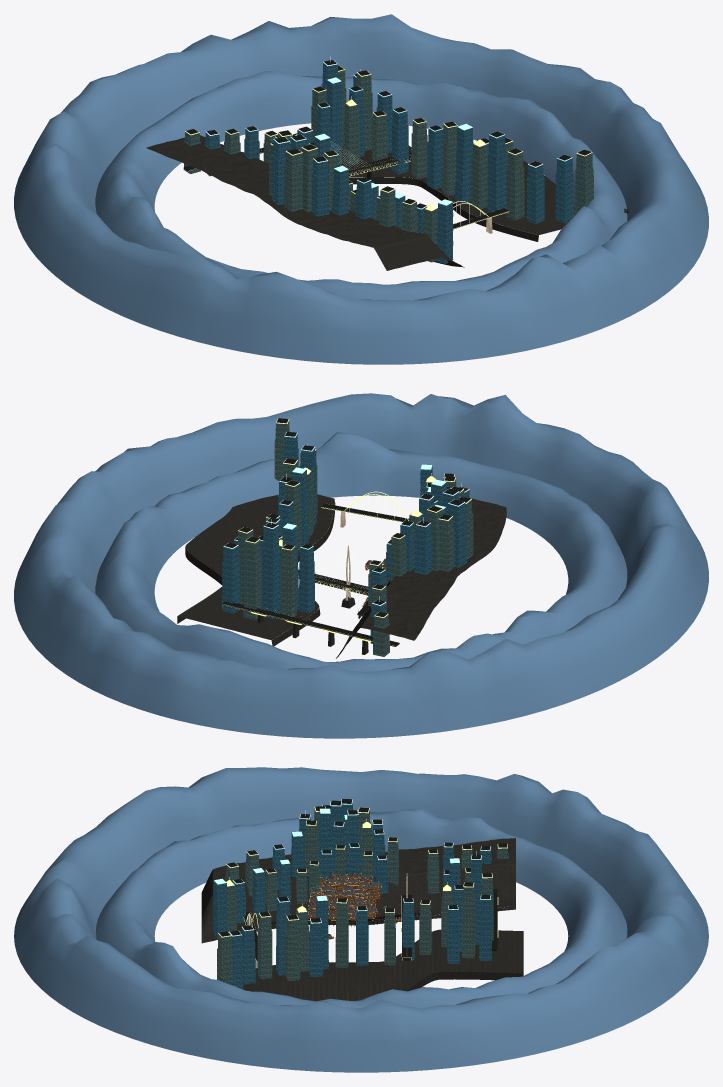
The model's file is hongyadong_hero_stage.glb.
3 views of the same model, one above another, from view 1: azimuth 30°, elevation 25°; view 2: azimuth 150°, elevation 25°; view 3: azimuth 270°, elevation 25° (orthographic). The views are drawn at different scales.
Visible parts, largest first — view 1: Chongqing_Distant_MountainRidges, Jiangbei_Skyscrapers_Cyan, Jiangbei_Skyscrapers_Gold, HYD_Sandstone_Cliff_And_Piers, HYD_Viaduct_And_Bridge_Decks, HYD_Golden_Contour_Lights, Jiangbei_NeonCrowns_Cyan; view 2: Chongqing_Distant_MountainRidges, HYD_Sandstone_Cliff_And_Piers, Jiangbei_Skyscrapers_Cyan, Jiangbei_Skyscrapers_Gold, HYD_Viaduct_And_Bridge_Decks, HYD_Golden_Contour_Lights, Jiangbei_NeonCrowns_Cyan, Qiansimen_Steel_WarrenTruss; view 3: Chongqing_Distant_MountainRidges, HYD_Sandstone_Cliff_And_Piers, Jiangbei_Skyscrapers_Cyan, Jiangbei_Skyscrapers_Gold, HYD_Viaduct_And_Bridge_Decks, HYD_Sichuan_FlyingEave_Roofs, HYD_Golden_Contour_Lights, HYD_Stilted_DarkTimber, Jiangbei_NeonCrowns_Cyan, HYD_Glowing_LatticeWindows.
Part boxes in pixels (<box>): Chongqing_Distant_MountainRidges: <box>14,14,708,364</box>; Jiangbei_Skyscrapers_Cyan: <box>204,62,573,263</box>; Jiangbei_Skyscrapers_Gold: <box>183,70,593,262</box>; HYD_Sandstone_Cliff_And_Piers: <box>146,118,629,270</box>; HYD_Viaduct_And_Bridge_Decks: <box>184,60,591,228</box>; HYD_Golden_Contour_Lights: <box>185,66,592,228</box>; Jiangbei_NeonCrowns_Cyan: <box>245,77,572,209</box>; Chongqing_Distant_MountainRidges: <box>14,393,708,738</box>; HYD_Sandstone_Cliff_And_Piers: <box>177,494,506,658</box>; Jiangbei_Skyscrapers_Cyan: <box>222,434,469,643</box>; Jiangbei_Skyscrapers_Gold: <box>237,420,473,656</box>; HYD_Viaduct_And_Bridge_Decks: <box>222,418,470,646</box>; HYD_Golden_Contour_Lights: <box>224,418,471,645</box>; Jiangbei_NeonCrowns_Cyan: <box>234,432,465,573</box>; Qiansimen_Steel_WarrenTruss: <box>222,492,409,646</box>; Chongqing_Distant_MountainRidges: <box>14,767,708,1072</box>; HYD_Sandstone_Cliff_And_Piers: <box>201,838,523,1001</box>; Jiangbei_Skyscrapers_Cyan: <box>212,801,491,989</box>; Jiangbei_Skyscrapers_Gold: <box>217,808,508,985</box>; HYD_Viaduct_And_Bridge_Decks: <box>219,799,507,960</box>; HYD_Sichuan_FlyingEave_Roofs: <box>308,871,401,935</box>; HYD_Golden_Contour_Lights: <box>218,805,507,956</box>; HYD_Stilted_DarkTimber: <box>308,875,416,939</box>; Jiangbei_NeonCrowns_Cyan: <box>214,799,463,936</box>; HYD_Glowing_LatticeWindows: <box>309,875,401,938</box>.
Size of the model in its own units: 837 by 146 by 901.
Materials: 17 (9 with a texture image).
